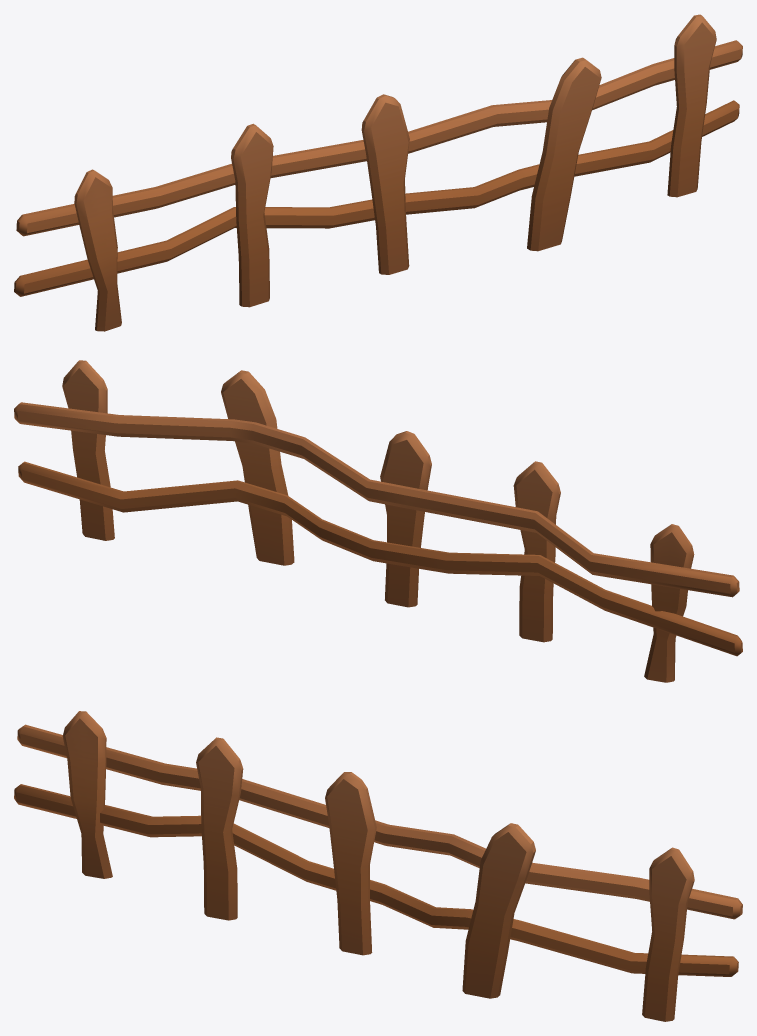
Rendered from Fence.fbx.
3 views of the same model, one above another, from view 1: azimuth 30°, elevation 25°; view 2: azimuth 150°, elevation 25°; view 3: azimuth 330°, elevation 25° (orthographic).
Visible parts, largest first — view 1: Fence; view 2: Fence; view 3: Fence.
Part boxes in pixels (x1=…): Fence: x1=14, y1=14, x2=742, y2=331; Fence: x1=14, y1=360, x2=742, y2=682; Fence: x1=14, y1=711, x2=742, y2=1021.
Bounding box in the file's own units: 286 × 66.99 × 30.73.
